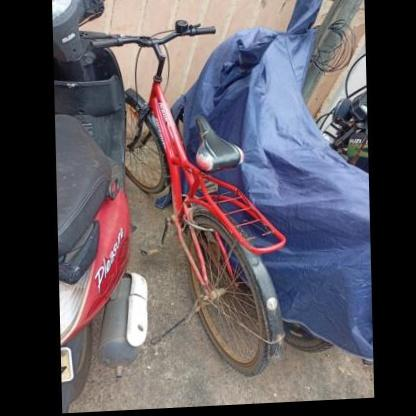Bicycle: (105, 0, 298, 395)
